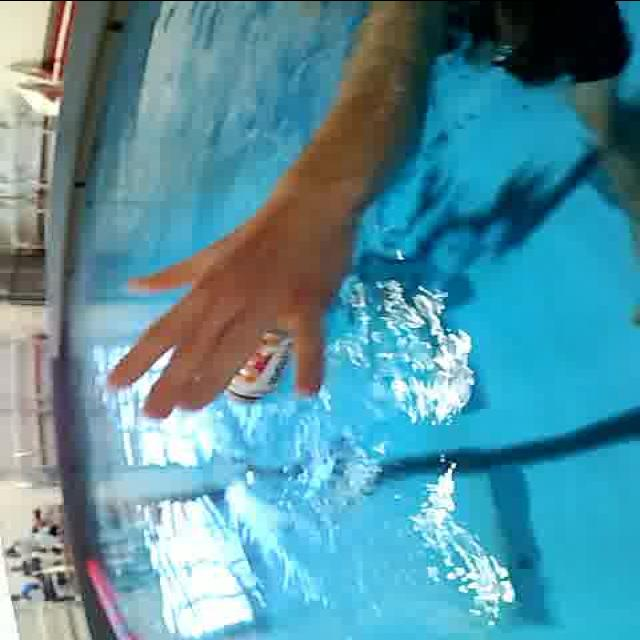Bottle: (220, 329, 294, 412)
